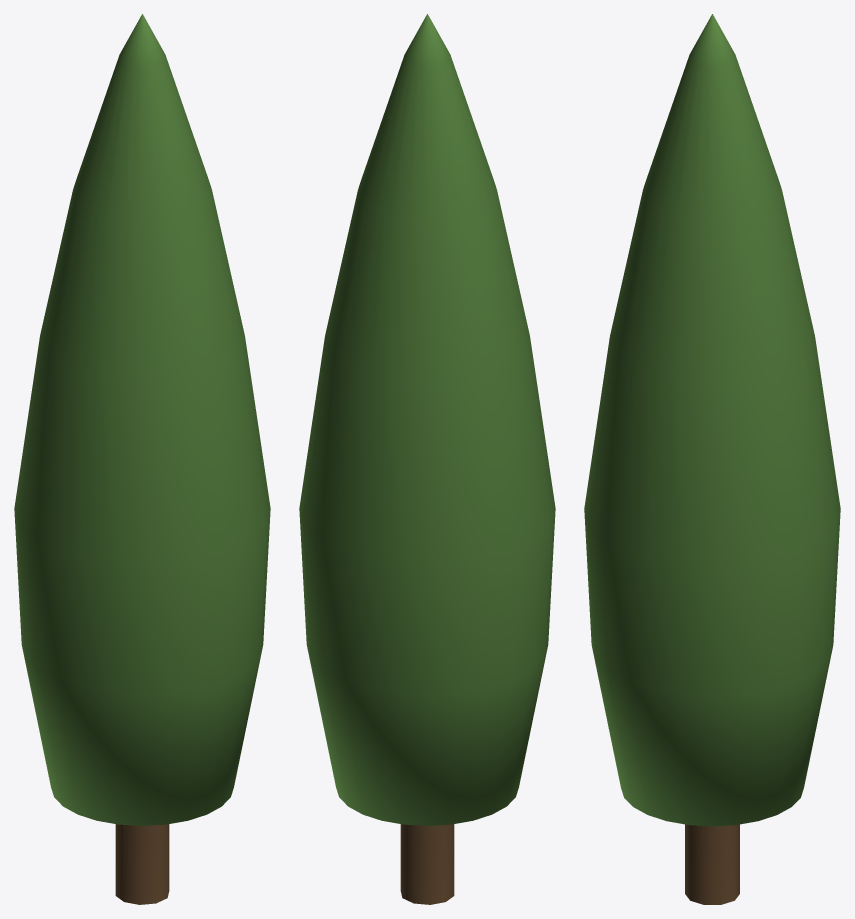
Rendered from cypress.glb.
3 views of the same model, side by side, from view 1: azimuth 30°, elevation 25°; view 2: azimuth 150°, elevation 25°; view 3: azimuth 270°, elevation 25° (orthographic).
Parts seen in each view (by area): view 1: cypress; view 2: cypress; view 3: cypress.
Part boxes in pixels (left/top/right/bottom): cypress: left=14, top=14, right=270, bottom=904; cypress: left=299, top=14, right=555, bottom=904; cypress: left=584, top=14, right=840, bottom=904.
Bounding box in the file's own units: 0.7 × 2.65 × 0.7.
